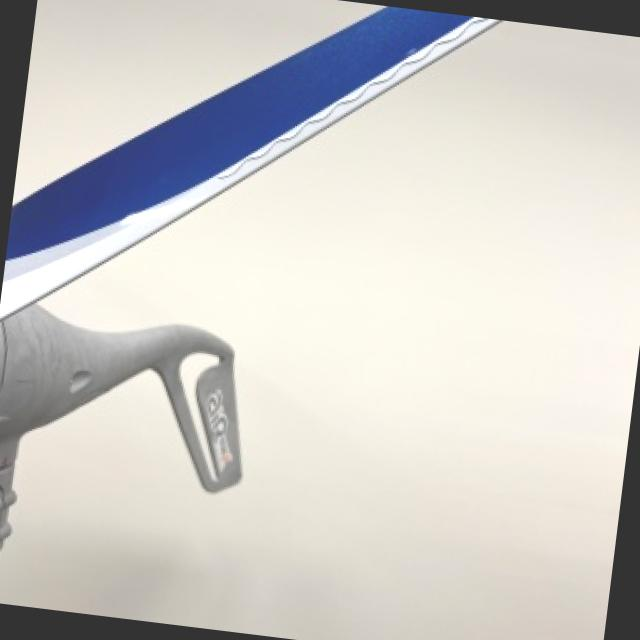healthy: (0, 20, 640, 640), (0, 7, 497, 536), (193, 382, 231, 473)
